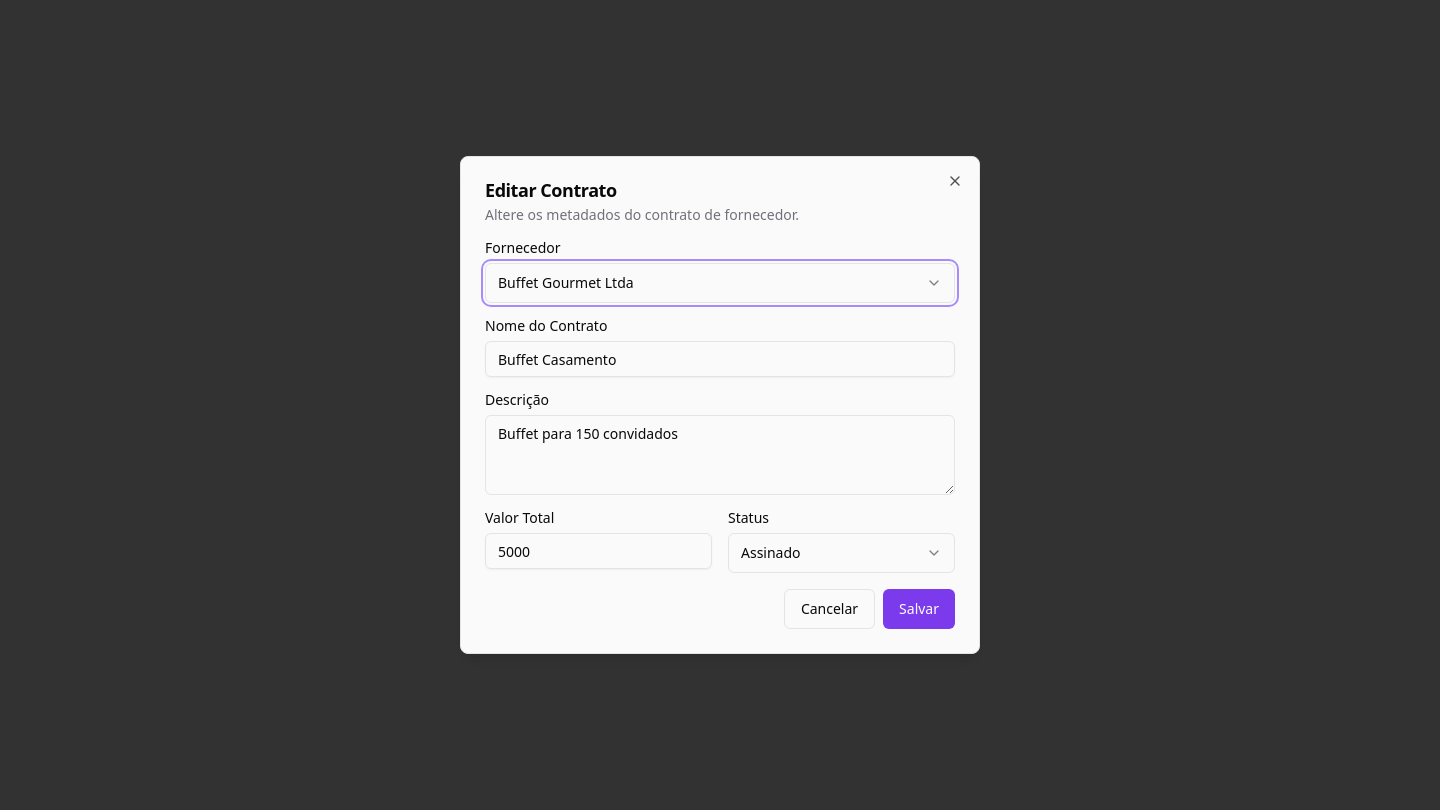
Scenario: EditContractDialog › restricts status options strictly to allowed_transitions and current status
The width and height of the screenshot is (1440, 810).
Click the dropdown named "status" at coordinates (842, 553), box [728,533,955,573]
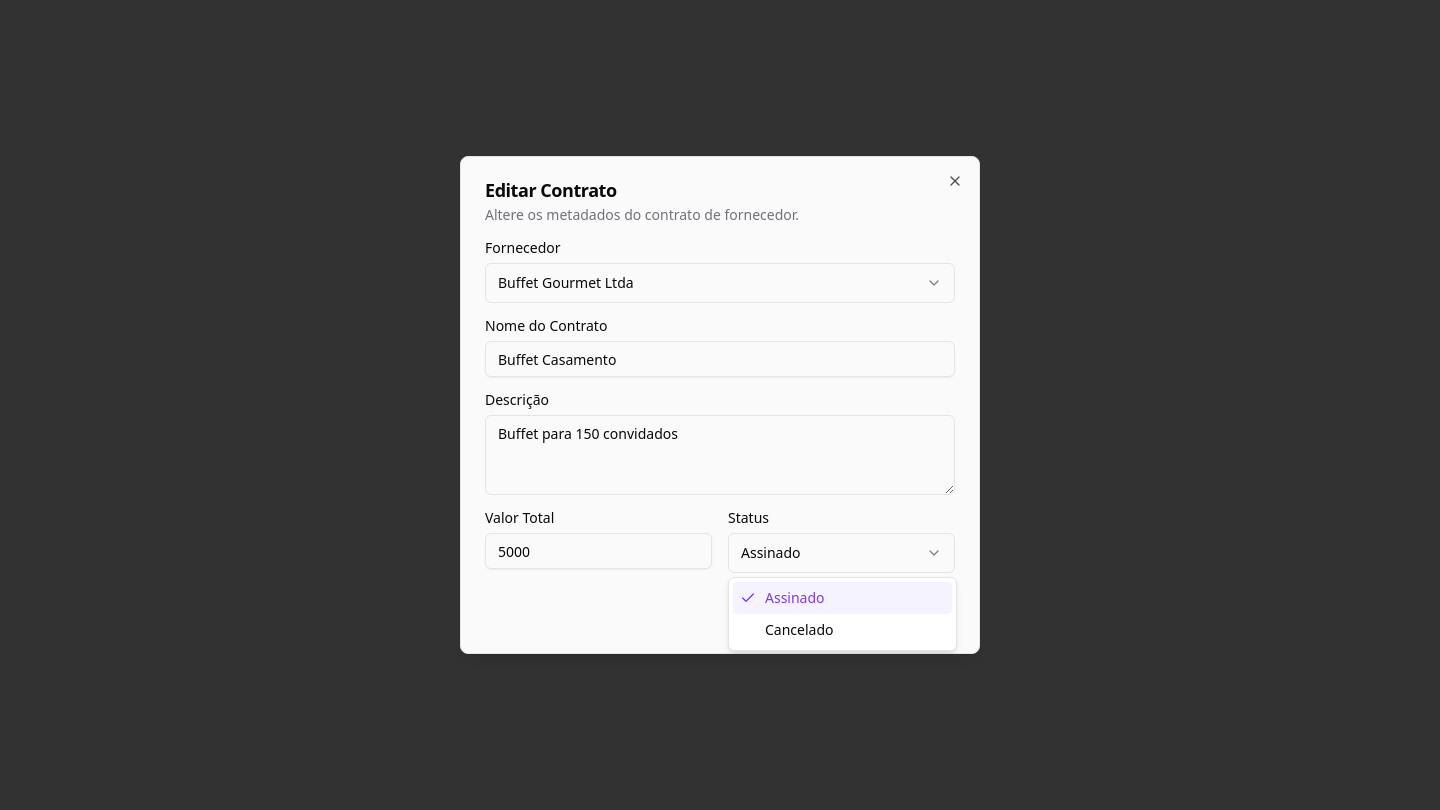
Now the option "Assinado" is shown, box [733,582,952,614]
Now the option "Cancelado" is shown, box [765,620,834,639]
